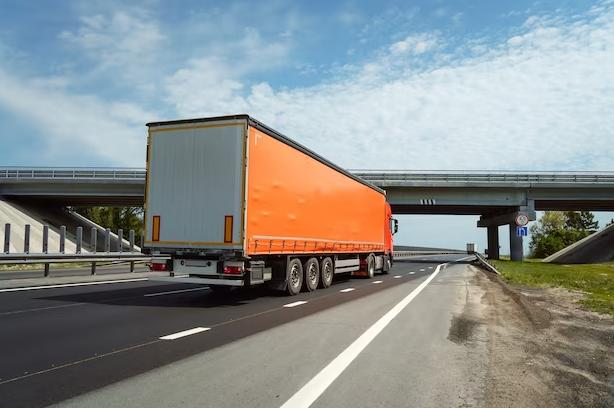vehicle: (142, 114, 398, 296)
